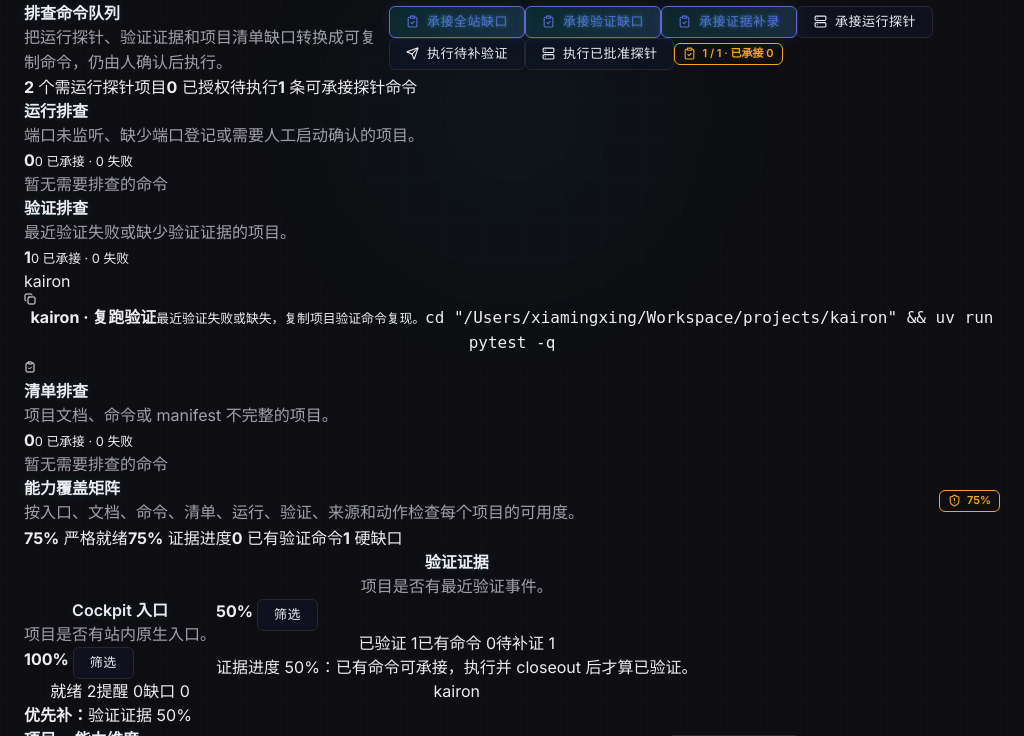
Scenario: SystemMapView interaction › queues a triage command without executing it
The width and height of the screenshot is (1024, 736).
(page scrolled)
Click the button named "承接排查命令 kairon 复跑验证": (30, 367) [24,361,36,373]
(page scrolled)
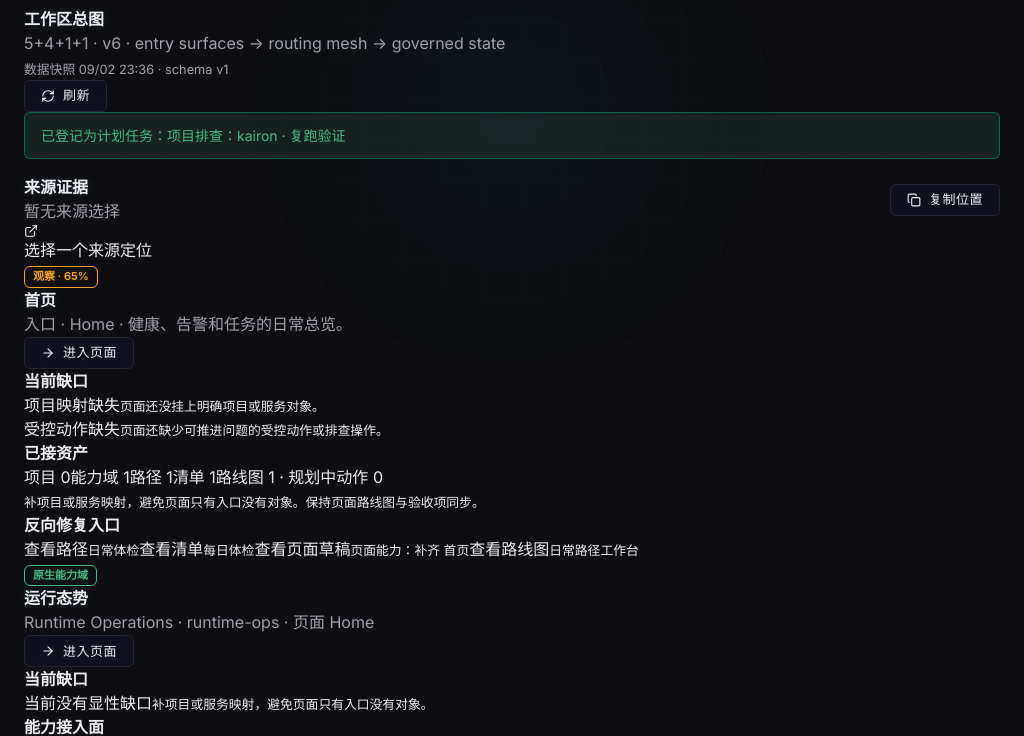
Result: the message shows "已登记为计划任务" at [41,127,346,144]
